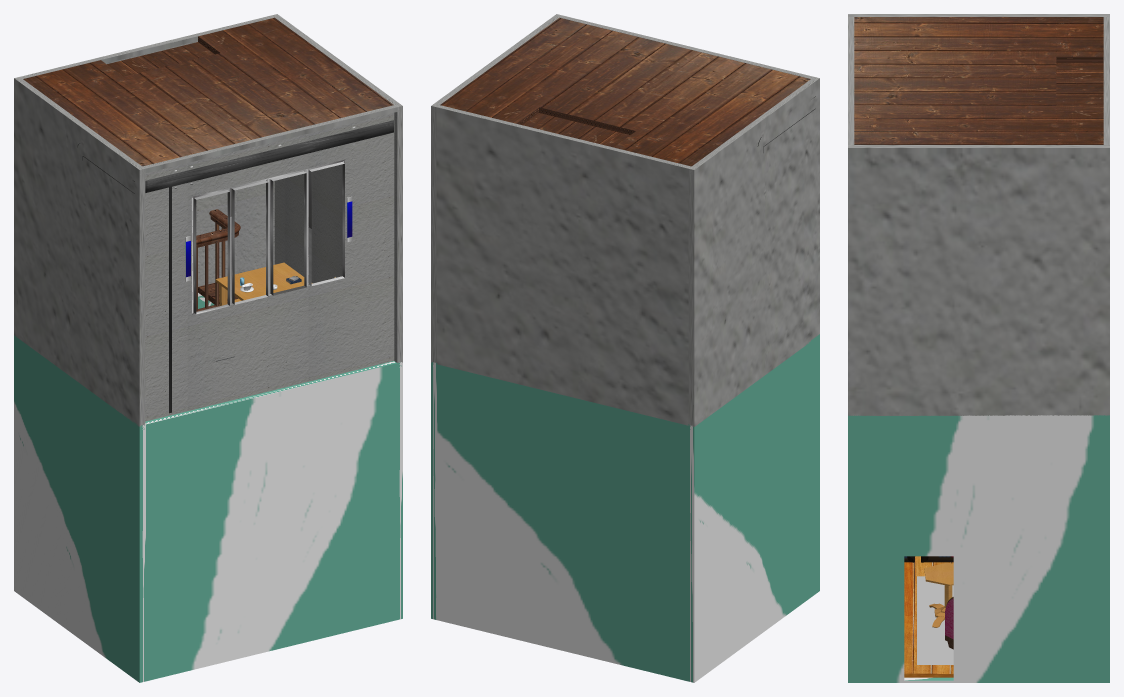
Rendered from Cuartos.obj.
The picture shows the model from 3 angles, left to right: view 1: azimuth 30°, elevation 25°; view 2: azimuth 150°, elevation 25°; view 3: azimuth 270°, elevation 25°; orthographic projection. The views are drawn at different scales.
Parts seen in each view (by area): view 1: paredes_inf_Cube.002, paredes_superior_Cube.061, piso_superior.001_Cube.055, Cube.008_Cube.062, mesa_Cube.051, Barandal_Cube.035; view 2: paredes_superior_Cube.061, paredes_inf_Cube.002, piso_superior.001_Cube.055; view 3: paredes_superior_Cube.061, paredes_inf_Cube.002, piso_superior.001_Cube.055, Alfombra_Plane, Piso_inf_Cube.044, Mesa_Te_Cube.004, sillon.002_Cube.084.
Boxes of the visible parts, <box> form: paredes_inf_Cube.002: <box>14,293,402,682</box>; paredes_superior_Cube.061: <box>14,14,402,426</box>; piso_superior.001_Cube.055: <box>23,17,393,166</box>; Cube.008_Cube.062: <box>77,120,393,413</box>; mesa_Cube.051: <box>215,262,312,305</box>; Barandal_Cube.035: <box>196,209,240,311</box>; paredes_superior_Cube.061: <box>431,14,819,426</box>; paredes_inf_Cube.002: <box>431,334,819,682</box>; piso_superior.001_Cube.055: <box>440,17,810,166</box>; paredes_superior_Cube.061: <box>848,14,1109,415</box>; paredes_inf_Cube.002: <box>848,415,1109,682</box>; piso_superior.001_Cube.055: <box>854,17,1103,144</box>; Alfombra_Plane: <box>917,576,953,664</box>; Piso_inf_Cube.044: <box>904,556,953,677</box>; Mesa_Te_Cube.004: <box>924,562,953,627</box>; sillon.002_Cube.084: <box>945,597,953,649</box>.
Bounding box in the file's own units: 4.63 × 8.61 × 3.82.
